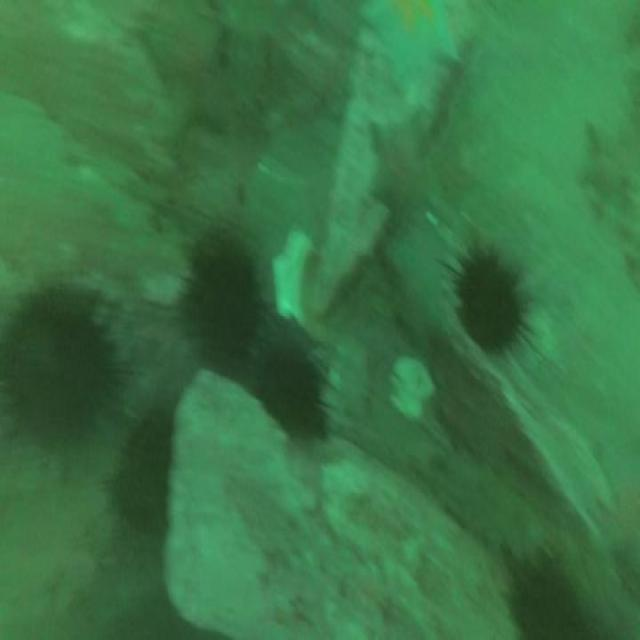echinus: (4, 292, 110, 446), (191, 246, 261, 364), (509, 551, 591, 640), (456, 250, 523, 343), (254, 346, 318, 430), (116, 423, 170, 520)
scallop: (390, 352, 434, 422)
starfish: (372, 108, 430, 218)
